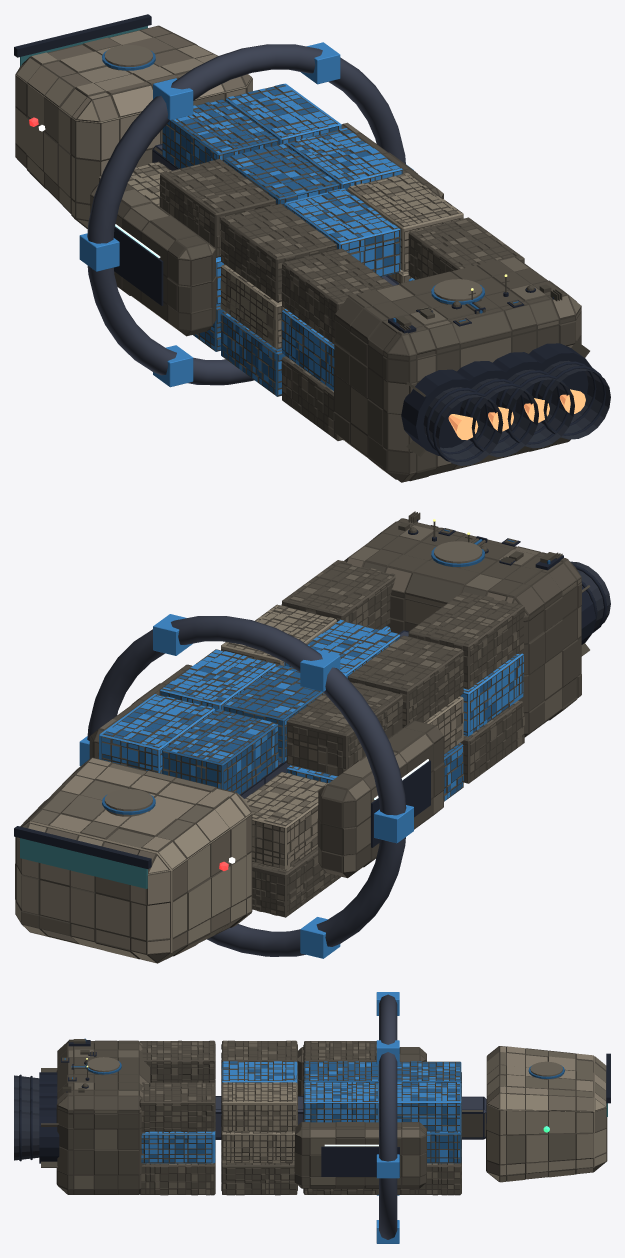
The model's file is atlas.glb.
The picture shows the model from 3 angles, top to bottom: view 1: azimuth 30°, elevation 25°; view 2: azimuth 150°, elevation 25°; view 3: azimuth 270°, elevation 25°; orthographic projection. The views are drawn at different scales.
Visible parts, largest first — view 1: atlas_mesh; view 2: atlas_mesh; view 3: atlas_mesh.
Part boxes in pixels (bbox=[...]): atlas_mesh: bbox=[14, 14, 610, 482]; atlas_mesh: bbox=[14, 511, 610, 963]; atlas_mesh: bbox=[14, 992, 610, 1243].
Bounding box in the file's own units: 13.55 × 13.55 × 32.74.
